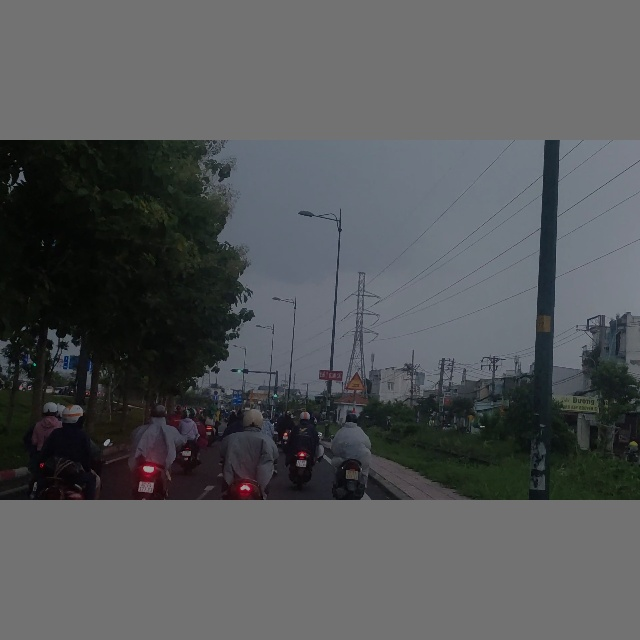W.210: (346, 372, 366, 391)
